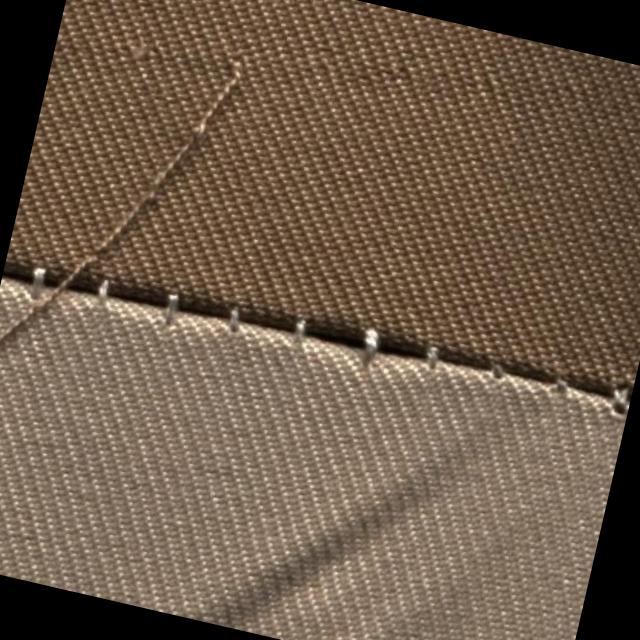gray stitch: (10, 235, 636, 440)
